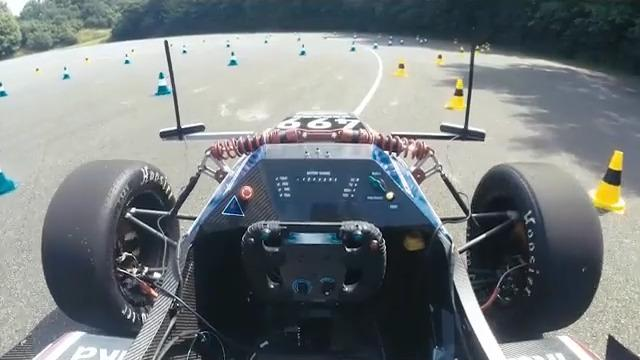blue_cone: (0, 161, 20, 199), (155, 72, 176, 101), (387, 37, 405, 51), (227, 51, 241, 68), (298, 44, 310, 61), (346, 39, 360, 51), (371, 38, 382, 51)
yellow_cone: (586, 145, 629, 213), (443, 76, 472, 110), (392, 57, 410, 86), (434, 51, 448, 70), (458, 45, 467, 55)
